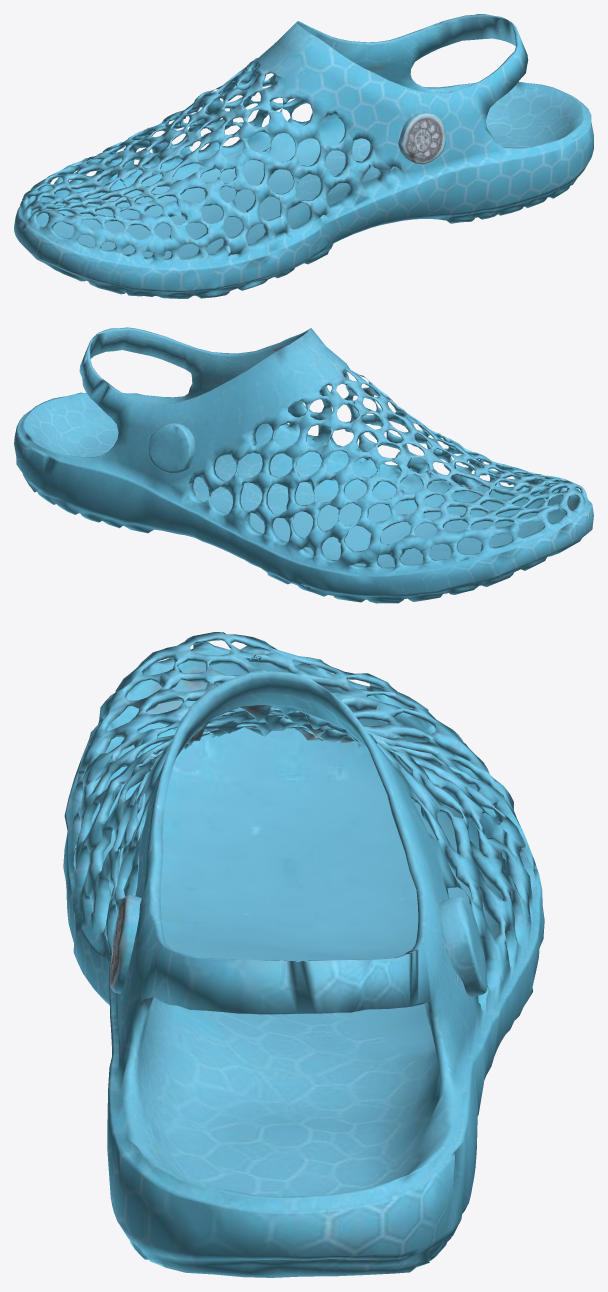
The model's file is dep.glb.
3 renders of one model, top to bottom at view 1: azimuth 30°, elevation 25°; view 2: azimuth 150°, elevation 25°; view 3: azimuth 270°, elevation 25°, orthographic. The views are drawn at different scales.
Bounding box in the file's own units: 0.9575 × 0.3301 × 0.3667.
Materials: 1 (1 with a texture image).
